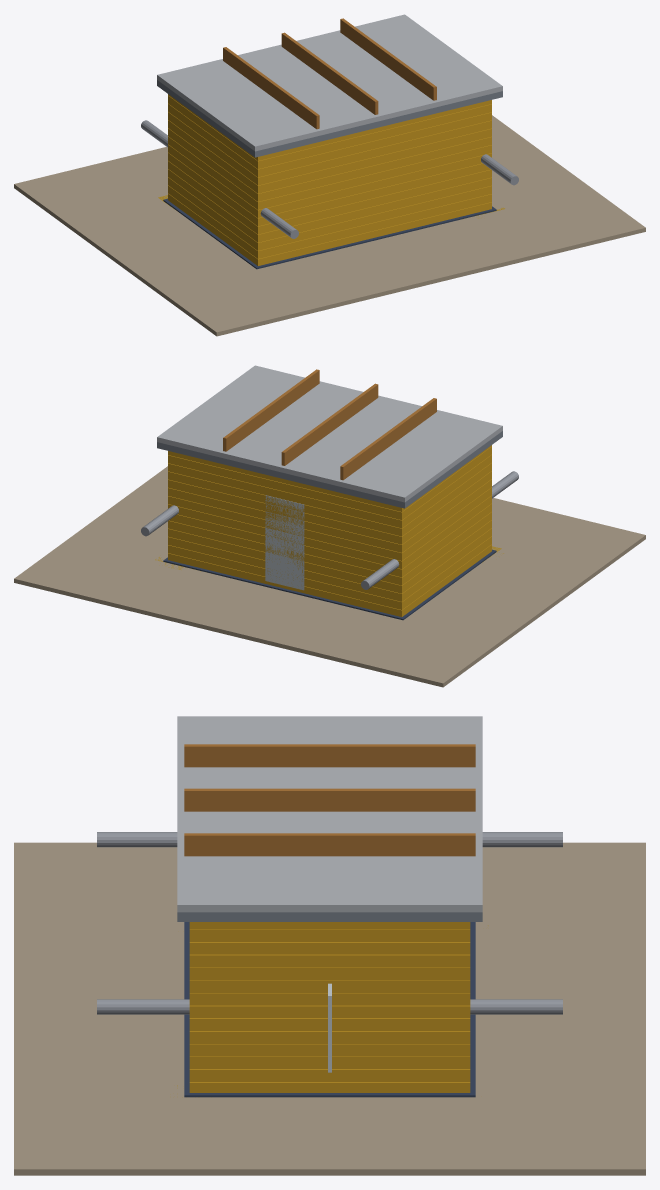
Rendered from stage_10_roof_covering.glb.
3 views of the same model, one above another, from view 1: azimuth 30°, elevation 25°; view 2: azimuth 150°, elevation 25°; view 3: azimuth 270°, elevation 25° (orthographic). The views are drawn at different scales.
Parts seen in each view (by area): view 1: world; view 2: world; view 3: world.
Boxes of the visible parts, x1,y1,x2,y2 form: world: (14,14,645,336); world: (14,365,645,687); world: (14,716,645,1175).
Size of the model in its own units: 11 by 4.2 by 9.
